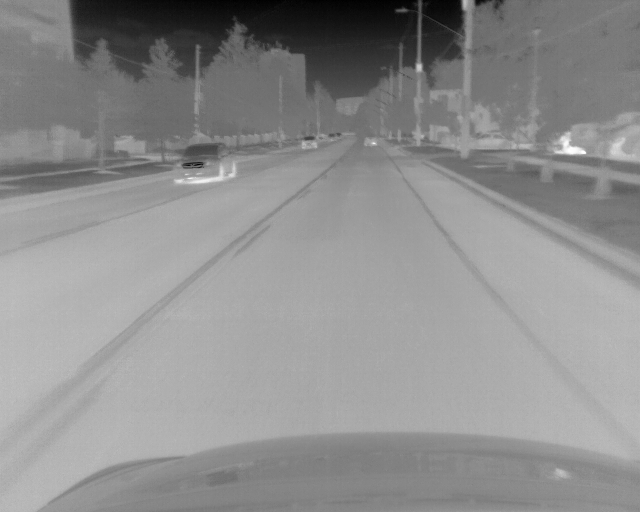car: (566, 113, 640, 164), (173, 141, 235, 183), (301, 134, 317, 149), (363, 135, 377, 147), (327, 132, 342, 141)
